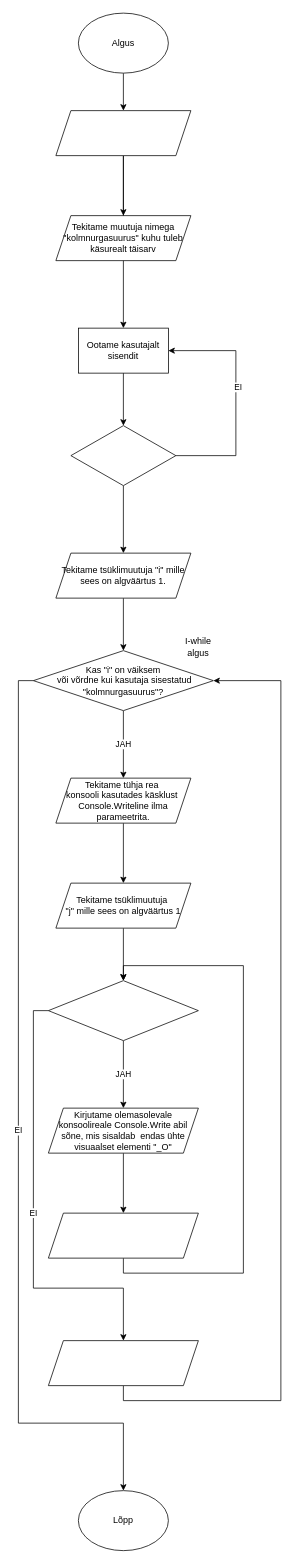
This 300x1564 diagram has some shape labels left out. The box of each missing label's shape, as (x1, y1, x2, y2) in pixels:
Inkrementeerime muutujat "i" ühe võrra: (48, 1340, 198, 1386)
Inkrementeerime muutujat "j" ühe võrra: (48, 1212, 198, 1258)
Kas "j" on väiksem või võrdne, kui eelmise while tsüklimuutuja "i"?: (48, 980, 198, 1041)
Kas kasutaja on sisestanud arvu?: (70, 425, 176, 486)
Kuvame kasutajale tekst "Joonistan sulle kolmnurga:": (55, 110, 191, 156)
